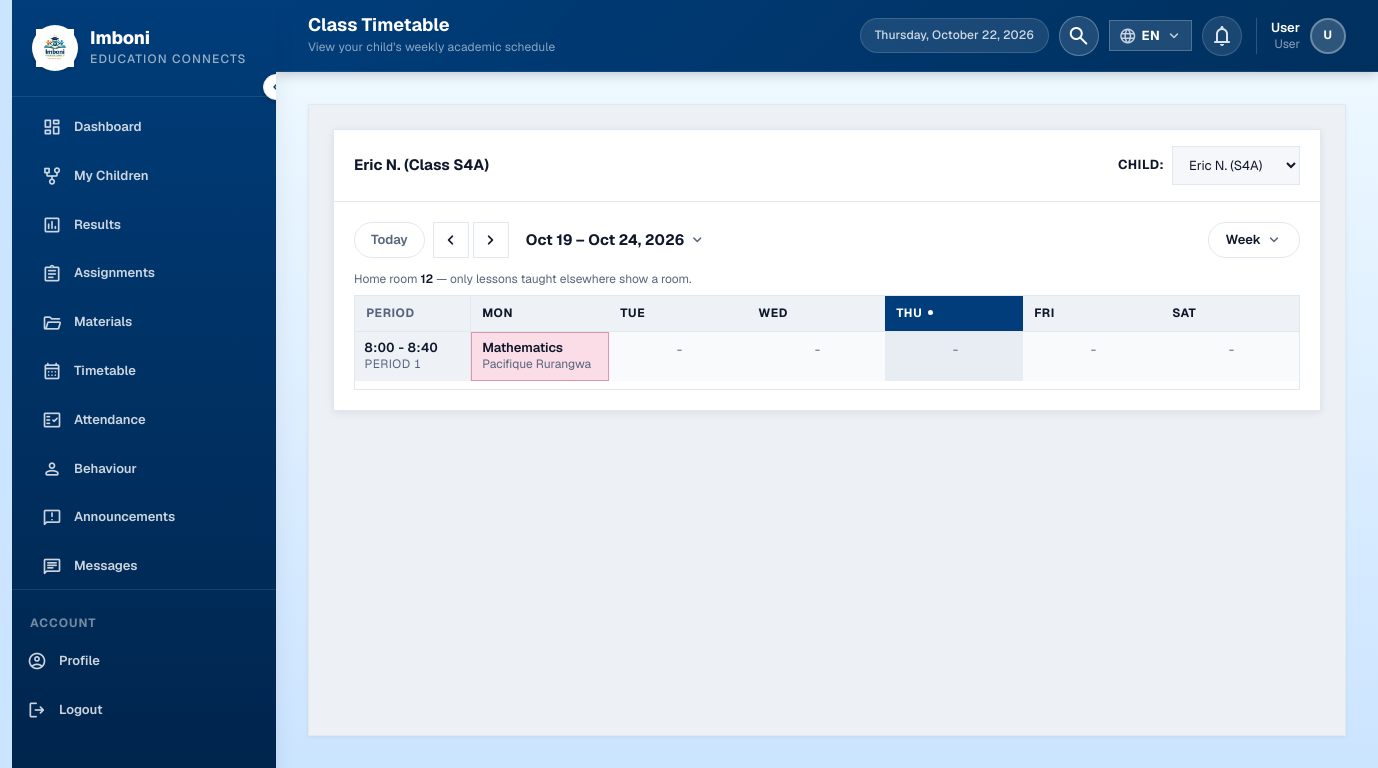
Test case: ParentTimetable › switching child loads that child's timetable
Check: the text "Mathematics" is shown, box [482,339,563,356]
Select "Alice M. (S5B)" in the dropdown labelled "Child:" at (1236, 165), box [1172,146,1300,185]
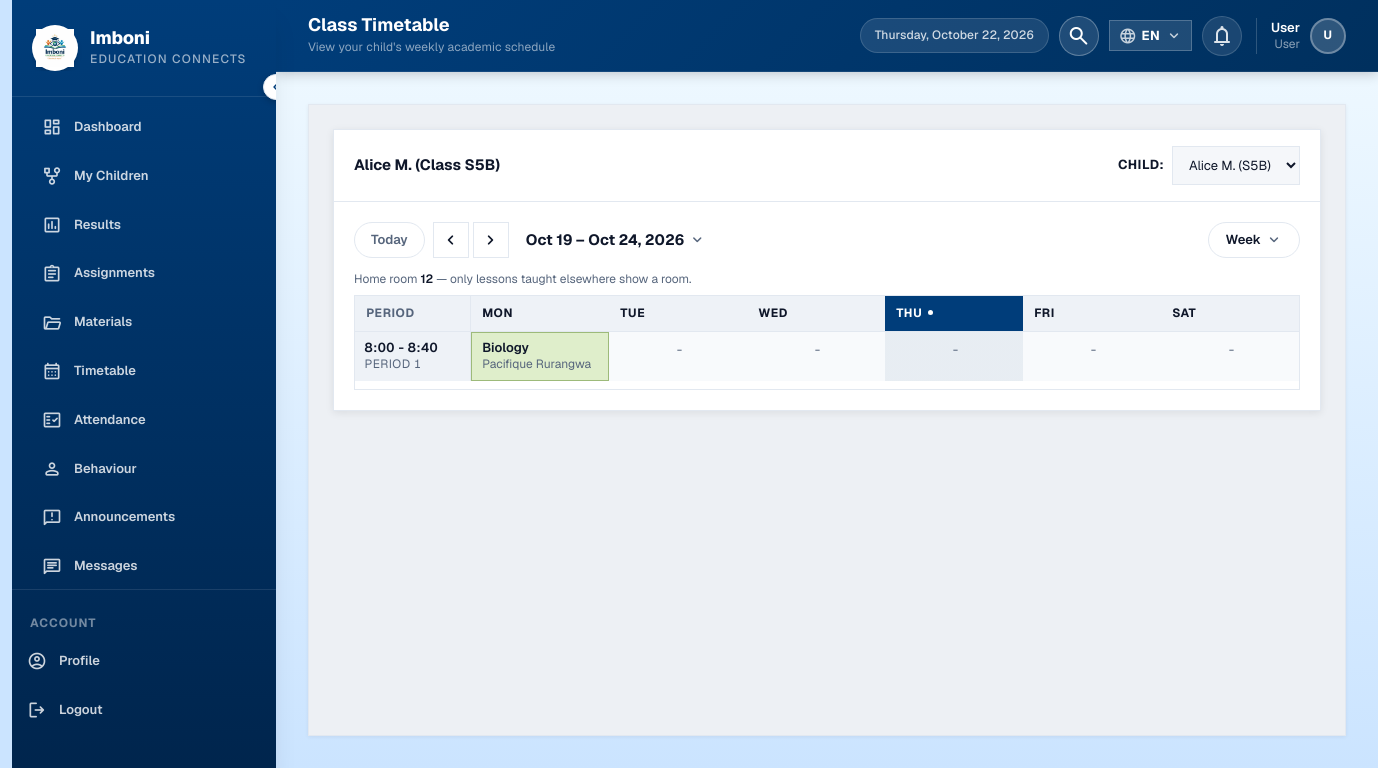
Check: the text "Biology" is shown, box [482,339,529,356]
Check: the heading "Alice M. (Class S5B)" is shown, box [354,156,500,174]
